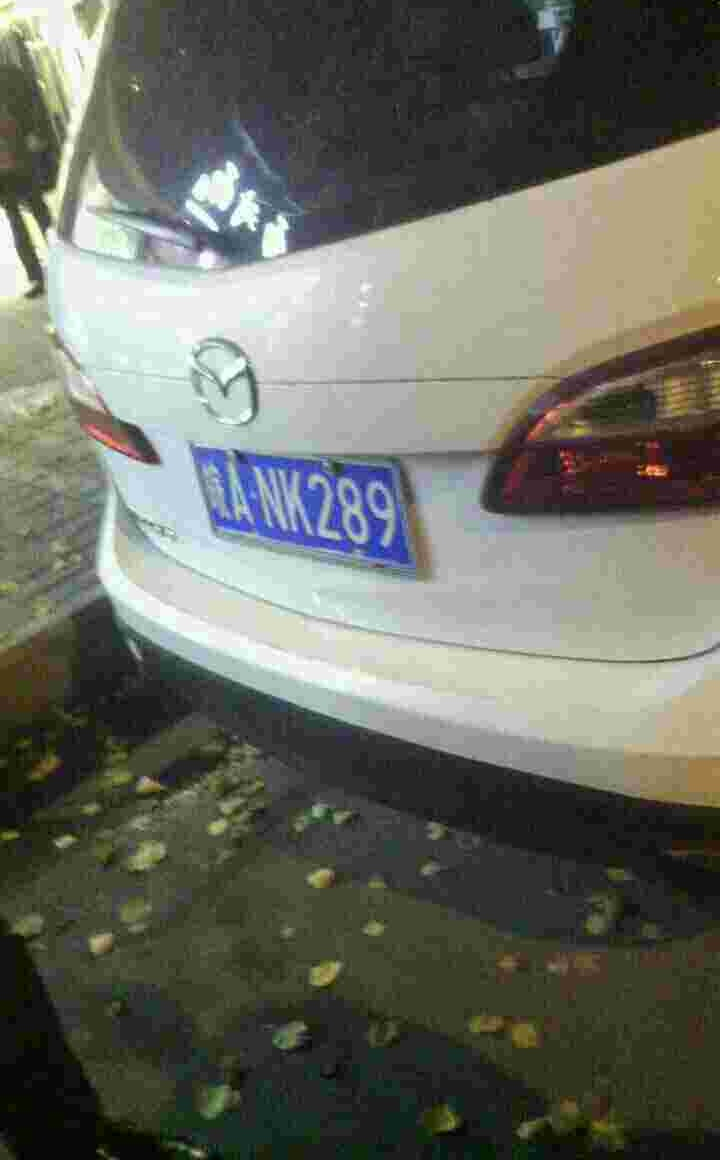license_plate: (190, 447, 413, 565)
